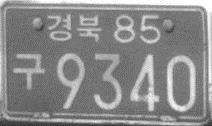0: (165, 53, 197, 113)
3: (91, 51, 122, 109)
4: (127, 52, 161, 113)
5: (138, 13, 161, 46)
8: (112, 12, 136, 43)
9: (55, 50, 86, 108)
경북_O: (46, 11, 102, 43)
구: (10, 52, 46, 92)
